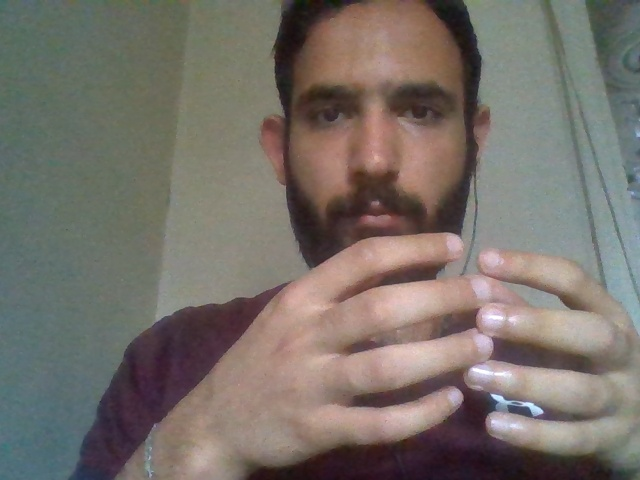Story: (258, 212, 640, 480)
